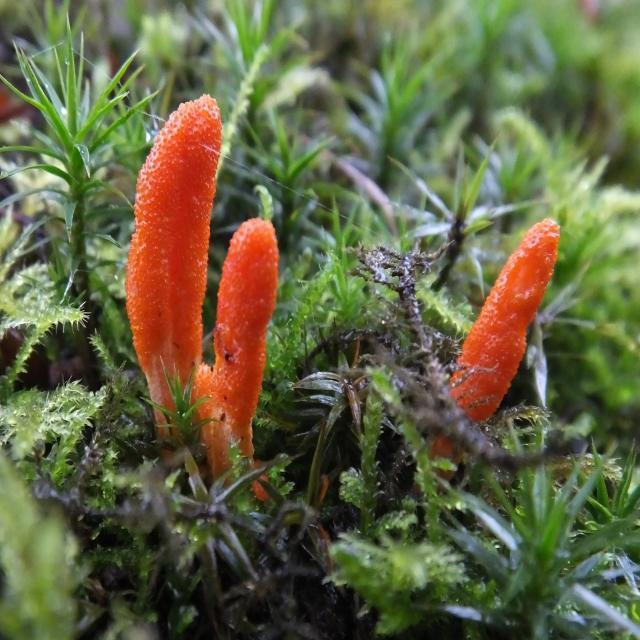Cordyceps militaris: (127, 96, 276, 483), (457, 220, 561, 421)
